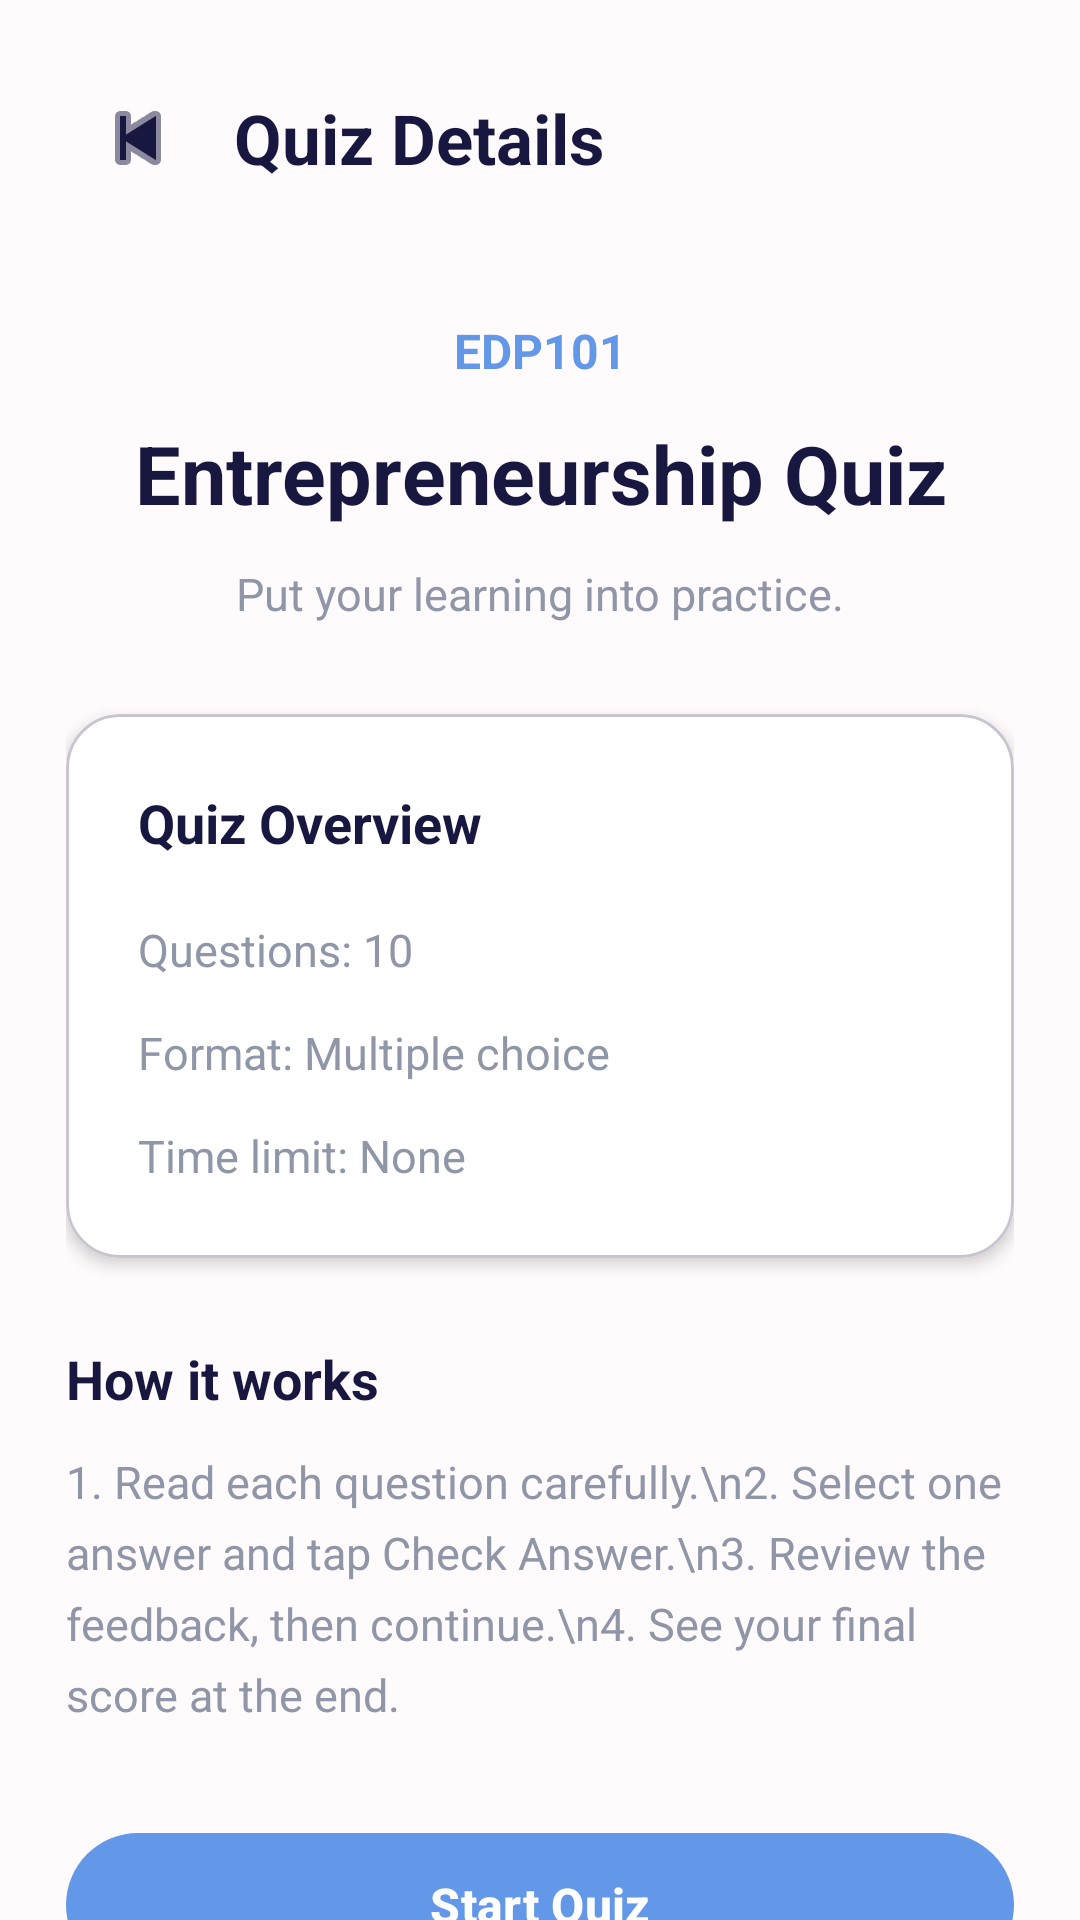

Named icons in this screenshot (1080 x 1920) and their bounding boxes, (x1, y1, x2, y2):
Go back: (115, 111, 161, 165)
